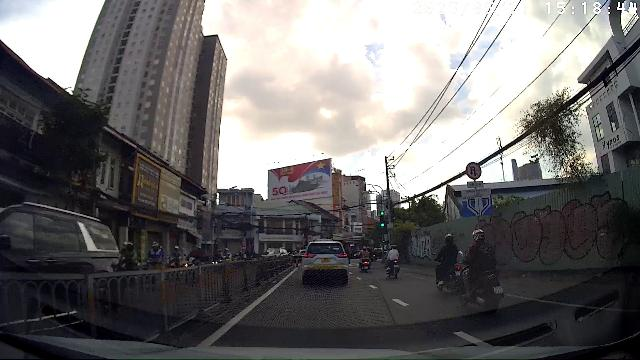124b-cam-oto-quay-dau-xe: (466, 162, 482, 180)
